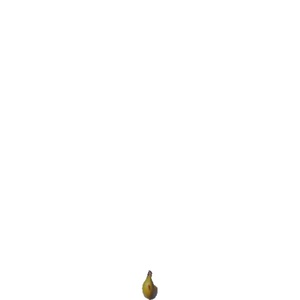banana: (137, 271, 163, 298)
